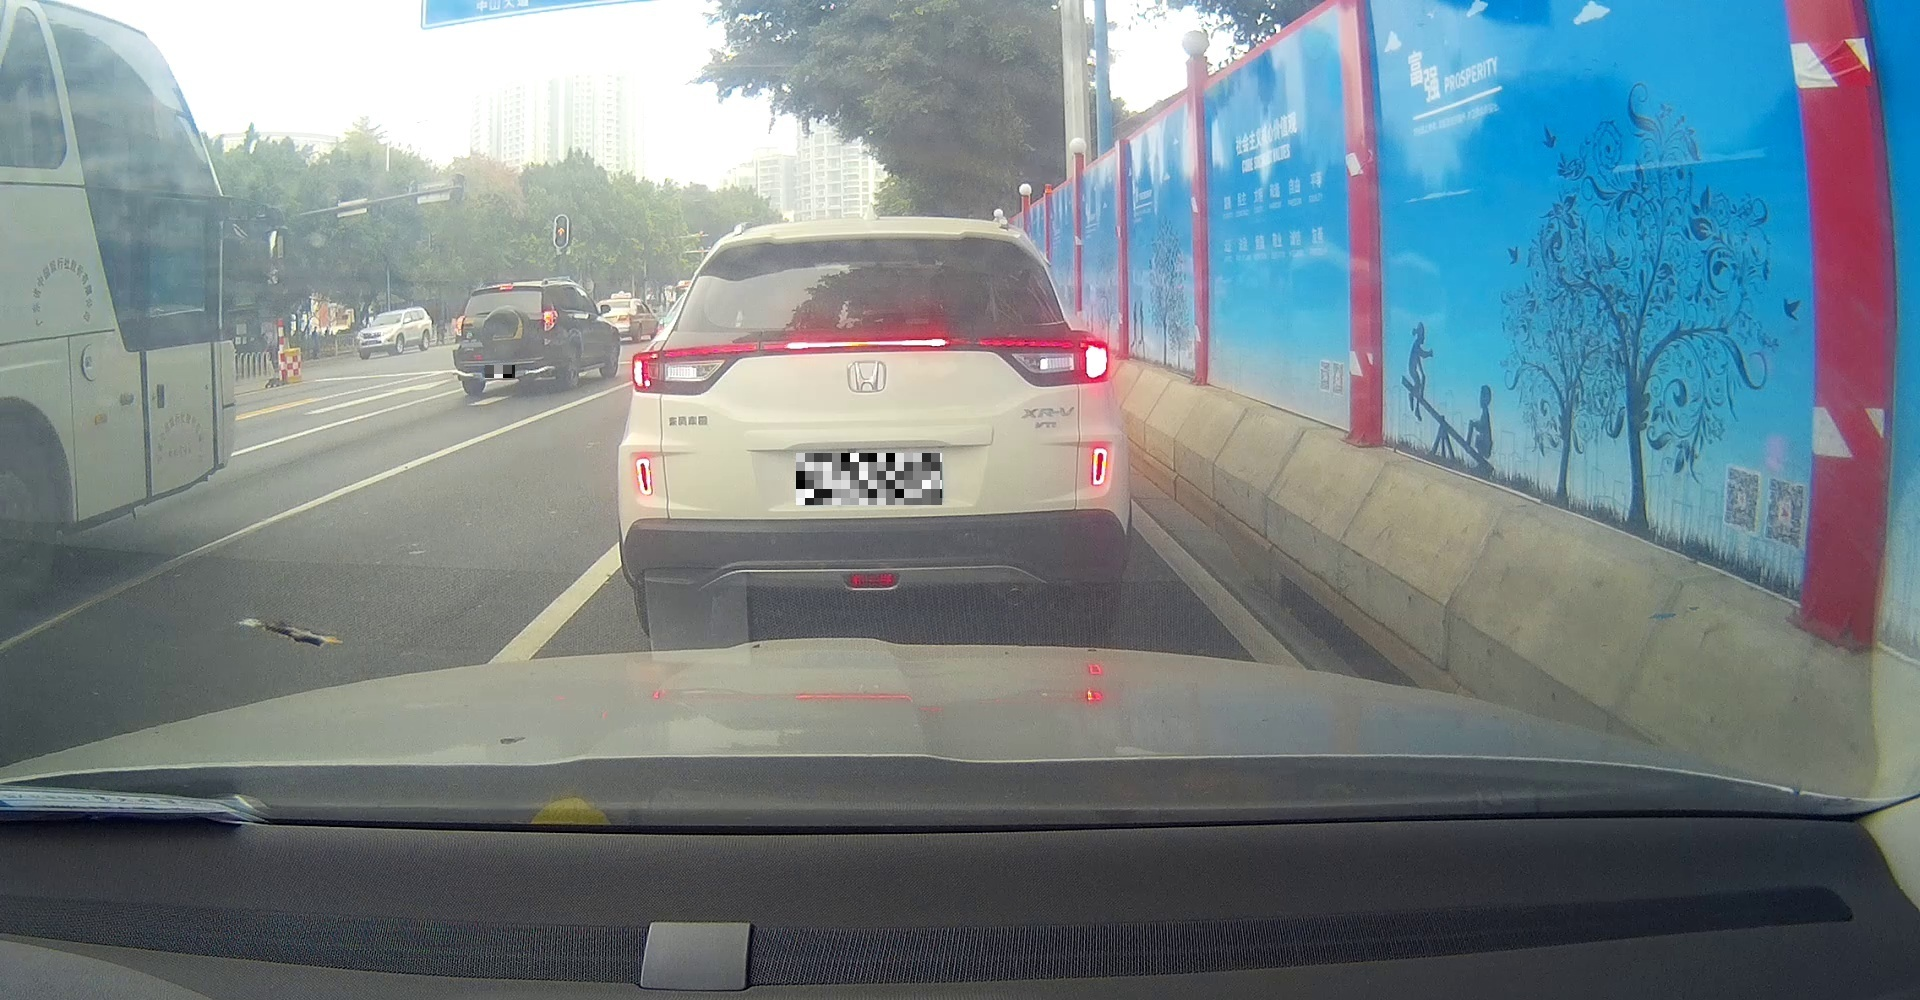L_light: (631, 340, 756, 396), (455, 315, 465, 336)
R_light: (977, 338, 1110, 387), (542, 308, 557, 331)
T_light: (762, 338, 970, 352), (499, 284, 514, 291)
day-brake: (615, 216, 1128, 637), (451, 282, 566, 396)
plate_1: (485, 365, 516, 378)
plate_2: (796, 453, 942, 505)
